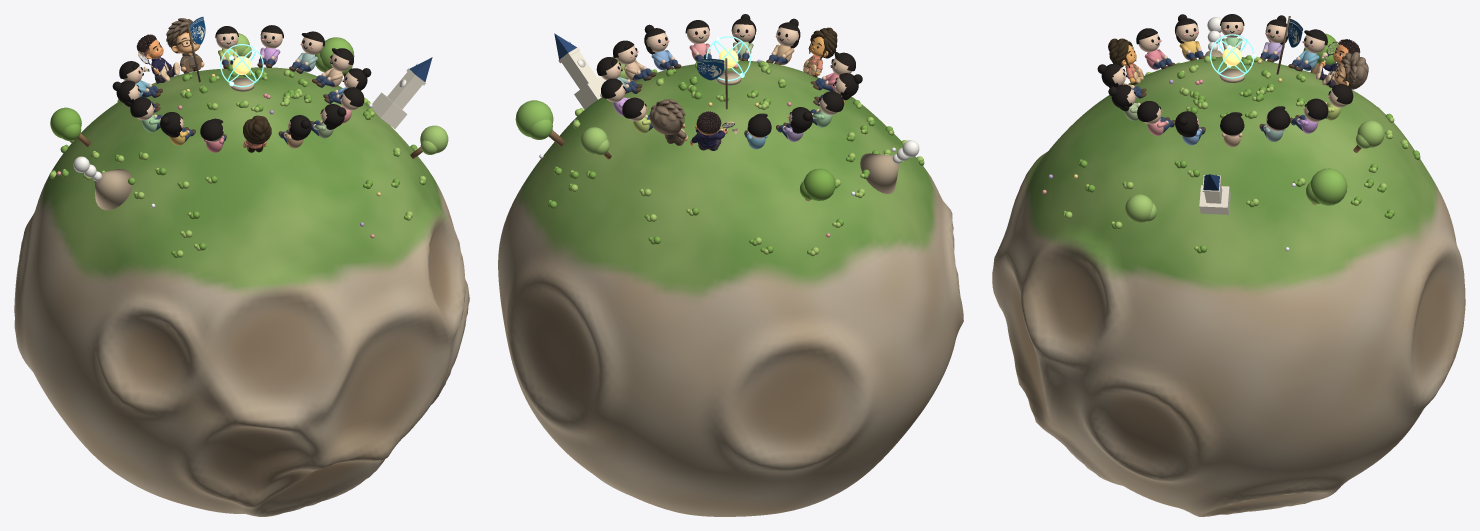
The model's file is planet.glb.
The picture shows the model from 3 angles, left to right: view 1: azimuth 30°, elevation 25°; view 2: azimuth 150°, elevation 25°; view 3: azimuth 270°, elevation 25°; orthographic projection. The views are drawn at different scales.
Visible parts, largest first — view 1: planet, cone.087, tripo_node_73f51903-956f-4df9-9c07-0fa0838b720b, tripo_node_8addbb99-0091-41b1-a48f-eea54f6b6915, tripo_node_bc81aee7-4c3b-440c-9363-9e998fe8c488, cube, cube.001, sphere.512; view 2: planet, tripo_node_73f51903-956f-4df9-9c07-0fa0838b720b, cone.087, tripo_node_8addbb99-0091-41b1-a48f-eea54f6b6915, tripo_node_bc81aee7-4c3b-440c-9363-9e998fe8c488, sphere.509, sphere.512, cube.001, cube; view 3: planet, sphere.509, tripo_node_73f51903-956f-4df9-9c07-0fa0838b720b, tripo_node_8addbb99-0091-41b1-a48f-eea54f6b6915, tripo_node_bc81aee7-4c3b-440c-9363-9e998fe8c488, sphere.515, cube, sphere.518.
Part boxes in pixels (x1,y1,x2,y2): planet: (14,67,469,516); cone.087: (94,169,132,210); tripo_node_73f51903-956f-4df9-9c07-0fa0838b720b: (166,18,204,73); tripo_node_8addbb99-0091-41b1-a48f-eea54f6b6915: (136,34,179,83); tripo_node_bc81aee7-4c3b-440c-9363-9e998fe8c488: (243,115,271,152); cube: (371,92,407,128); cube.001: (387,72,422,109); sphere.512: (50,107,81,138); planet: (498,61,963,516); tripo_node_73f51903-956f-4df9-9c07-0fa0838b720b: (649,99,687,145); cone.087: (860,153,899,193); tripo_node_8addbb99-0091-41b1-a48f-eea54f6b6915: (690,111,738,150); tripo_node_bc81aee7-4c3b-440c-9363-9e998fe8c488: (803,27,837,77); sphere.509: (515,100,553,137); sphere.512: (803,168,835,200); cube.001: (561,51,597,89); cube: (574,76,606,109); planet: (992,56,1465,516); sphere.509: (1310,168,1347,205); tripo_node_73f51903-956f-4df9-9c07-0fa0838b720b: (1334,52,1368,89); tripo_node_8addbb99-0091-41b1-a48f-eea54f6b6915: (1315,39,1360,87); tripo_node_bc81aee7-4c3b-440c-9363-9e998fe8c488: (1108,38,1143,84); sphere.515: (1125,194,1152,223); cube: (1199,185,1230,214); sphere.518: (1357,120,1384,147).
Size of the model in its own units: 8.01 by 8.96 by 8.3.
44 materials, 4 textured.
